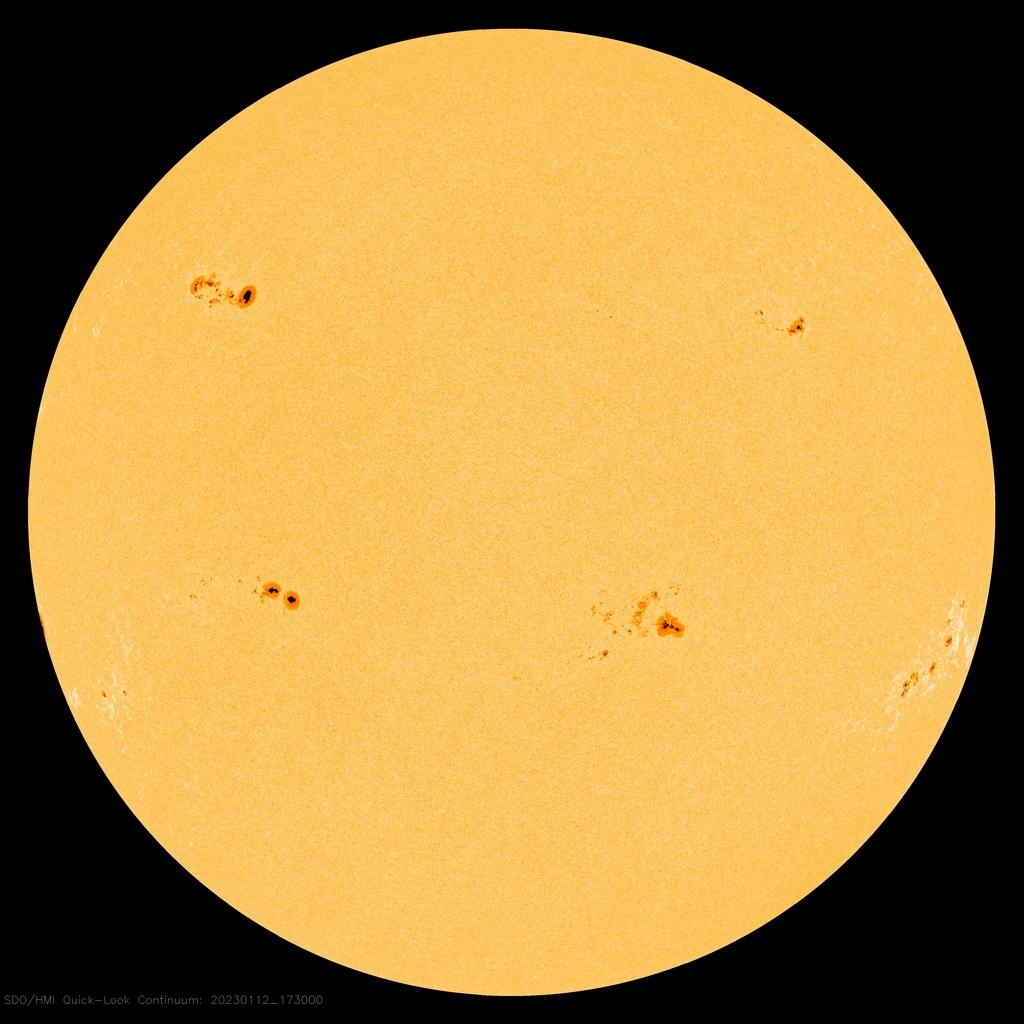flare: (582, 575, 695, 672), (894, 587, 976, 708), (187, 565, 307, 618), (181, 262, 265, 322), (745, 297, 815, 344), (94, 678, 138, 708)
